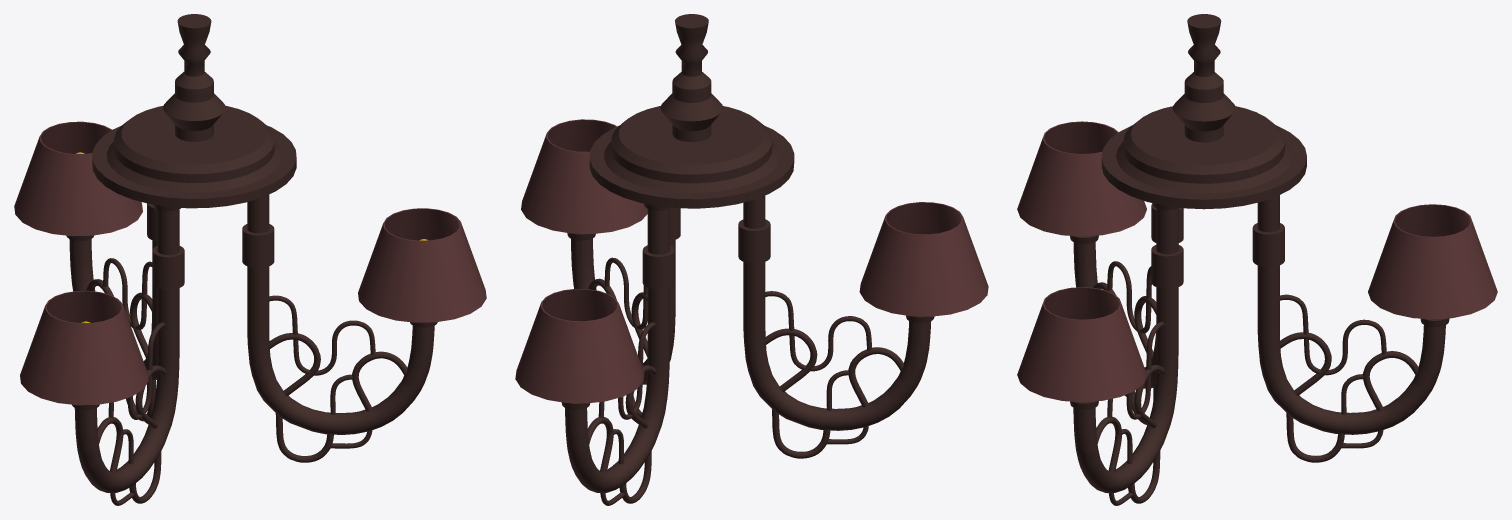
File: Lustre1_5.fbx
3 views of the same model, side by side, from view 1: azimuth 30°, elevation 25°; view 2: azimuth 150°, elevation 25°; view 3: azimuth 270°, elevation 25° (orthographic).
Parts seen in each view (by area): view 1: pCylinder903, pPipe156, pPipe155, pCylinder1057, pPipe157, pCylinder1070, pCylinder1082, pCylinder1062, pCylinder1063, pCylinder1047, pCylinder1061, pCylinder1031; view 2: pCylinder903, pPipe157, pPipe155, pCylinder1070, pCylinder1082, pPipe156, pCylinder1057, pCylinder1067, pCylinder1068, pCylinder1062, pCylinder1071, pCylinder1073 (+1 smaller); view 3: pCylinder903, pPipe157, pPipe156, pCylinder1082, pPipe155, pCylinder1057, pCylinder1070, pCylinder1042, pCylinder1051, pCylinder1052, pCylinder1049, pCylinder1047.
Boxes of the visible parts, x1,y1,x2,y2 form: pCylinder903: [92, 14, 296, 208]; pPipe156: [358, 208, 486, 322]; pPipe155: [20, 290, 148, 405]; pCylinder1057: [242, 194, 434, 434]; pPipe157: [14, 121, 142, 236]; pCylinder1070: [74, 204, 184, 492]; pCylinder1082: [69, 203, 157, 384]; pCylinder1062: [293, 320, 375, 375]; pCylinder1063: [269, 333, 320, 395]; pCylinder1047: [352, 351, 407, 411]; pCylinder1061: [275, 413, 333, 462]; pCylinder1031: [97, 417, 123, 472]; pCylinder903: [589, 14, 794, 208]; pPipe157: [515, 288, 644, 403]; pPipe155: [859, 202, 988, 316]; pCylinder1070: [738, 195, 931, 430]; pCylinder1082: [565, 203, 674, 492]; pPipe156: [521, 119, 647, 233]; pCylinder1057: [571, 207, 680, 384]; pCylinder1067: [789, 316, 870, 371]; pCylinder1068: [765, 328, 815, 391]; pCylinder1062: [604, 257, 647, 329]; pCylinder1071: [848, 347, 903, 407]; pCylinder1073: [772, 409, 828, 458]; pCylinder903: [1101, 14, 1306, 209]; pPipe157: [1368, 204, 1497, 319]; pPipe156: [1017, 287, 1146, 402]; pCylinder1082: [1252, 195, 1445, 434]; pPipe155: [1017, 121, 1146, 236]; pCylinder1057: [1073, 203, 1183, 493]; pCylinder1070: [1073, 203, 1183, 388]; pCylinder1042: [1304, 320, 1386, 375]; pCylinder1051: [1279, 332, 1331, 395]; pCylinder1052: [1363, 351, 1418, 410]; pCylinder1049: [1286, 413, 1344, 462]; pCylinder1047: [1096, 417, 1122, 472].
Bounding box in the file's own units: 52.96 × 49.35 × 48.78.
